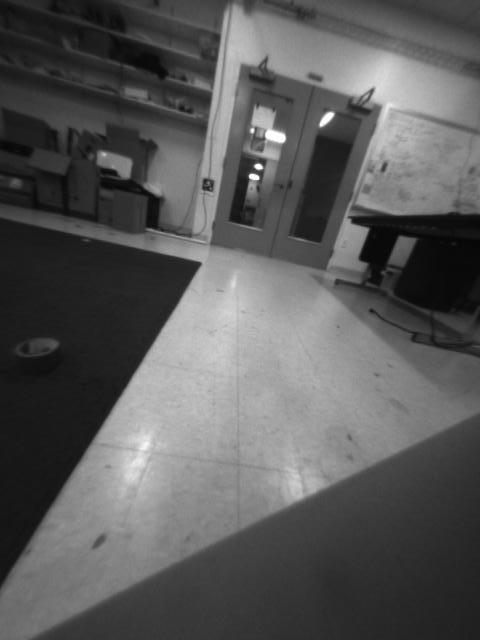dogtoy: (5, 331, 67, 366)
